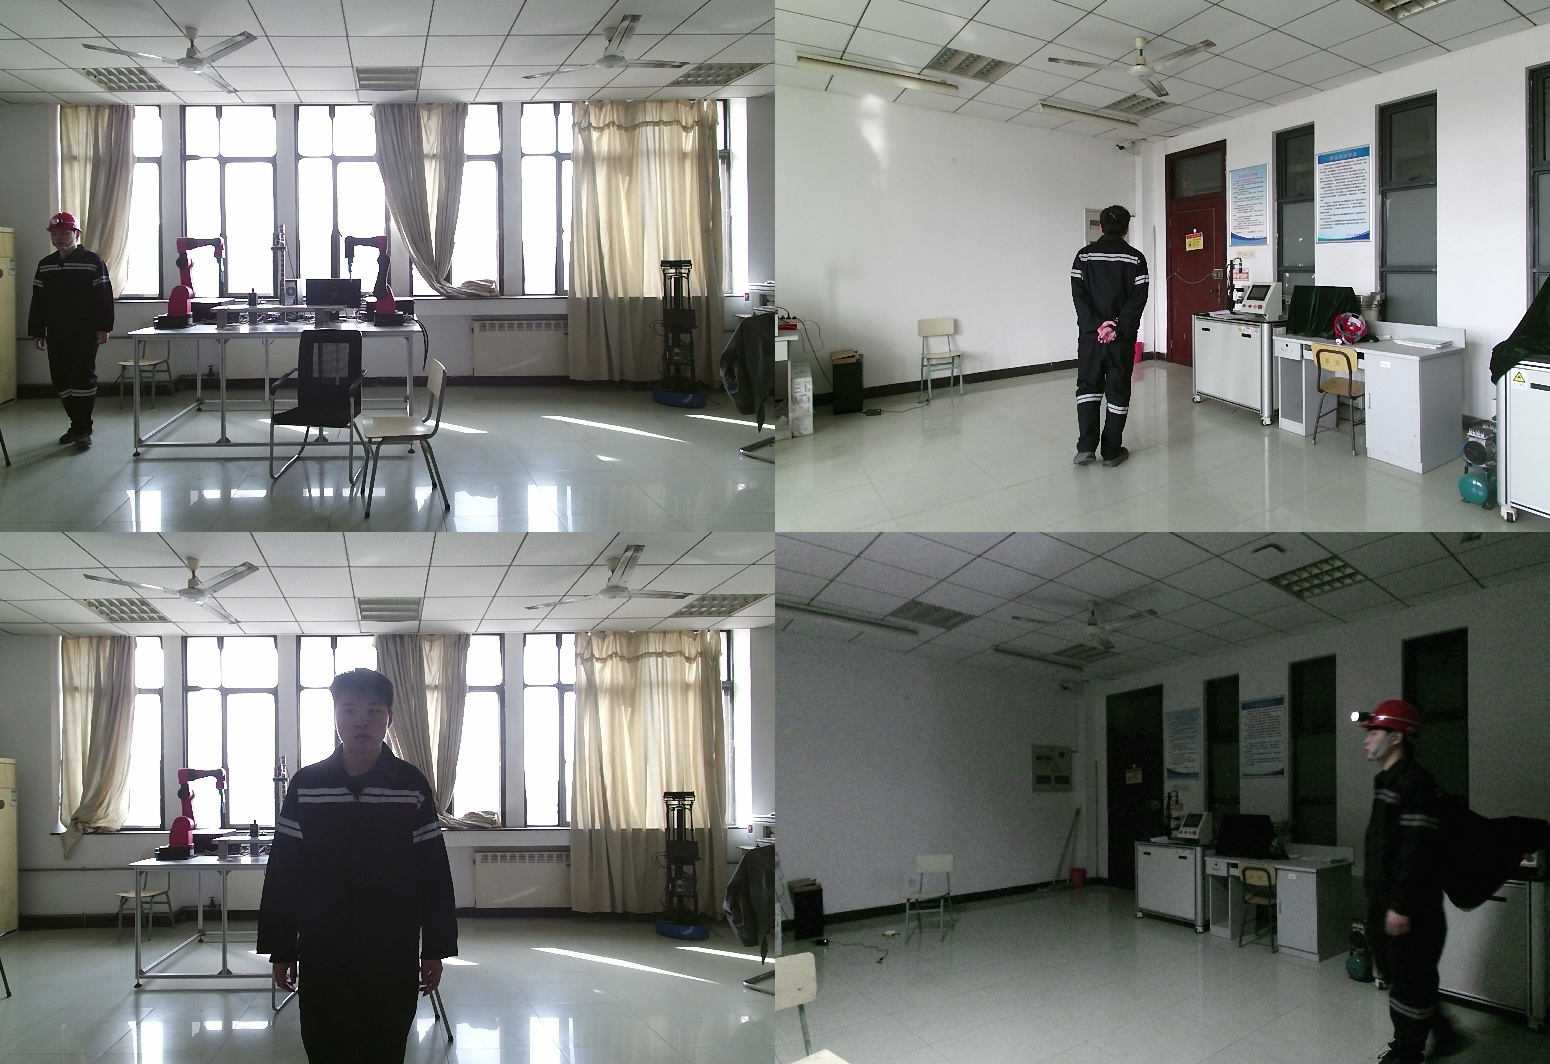person: (267, 667, 476, 1064), (1359, 697, 1470, 1061), (1065, 205, 1155, 473), (28, 215, 126, 447)
